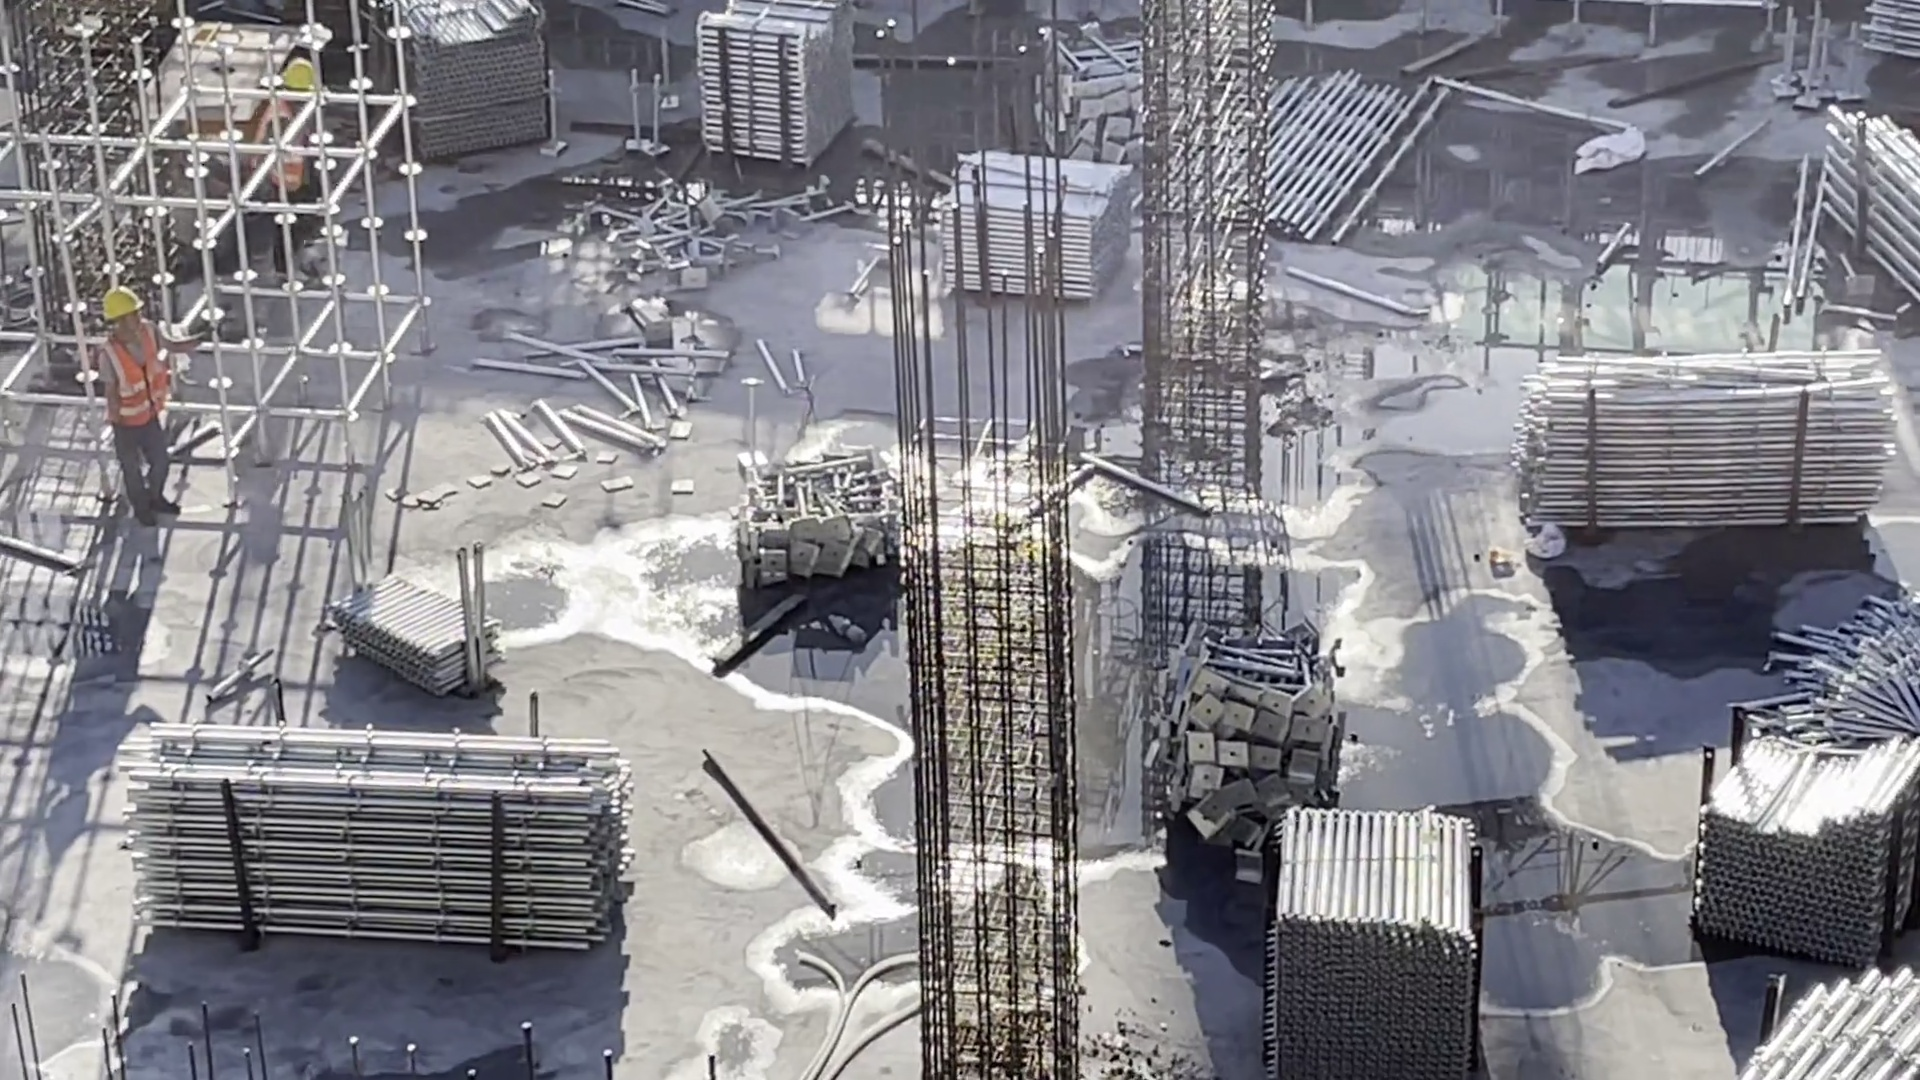cutter: (134, 22, 325, 172)
helmet: (96, 280, 154, 324), (282, 56, 322, 95)
person: (93, 258, 200, 511), (267, 63, 329, 287)
scaffold: (129, 708, 628, 954), (1521, 351, 1864, 536), (1273, 803, 1500, 1066), (1701, 722, 1913, 965), (1156, 640, 1362, 851), (1223, 70, 1448, 237), (693, 1, 866, 175), (381, 1, 563, 154), (948, 149, 1139, 289), (742, 449, 901, 589), (1775, 594, 1920, 744), (1819, 112, 1920, 322), (1042, 51, 1185, 194), (1726, 969, 1902, 1080), (338, 578, 499, 695), (1861, 4, 1920, 60)
vest: (101, 329, 181, 425), (260, 107, 310, 194)
